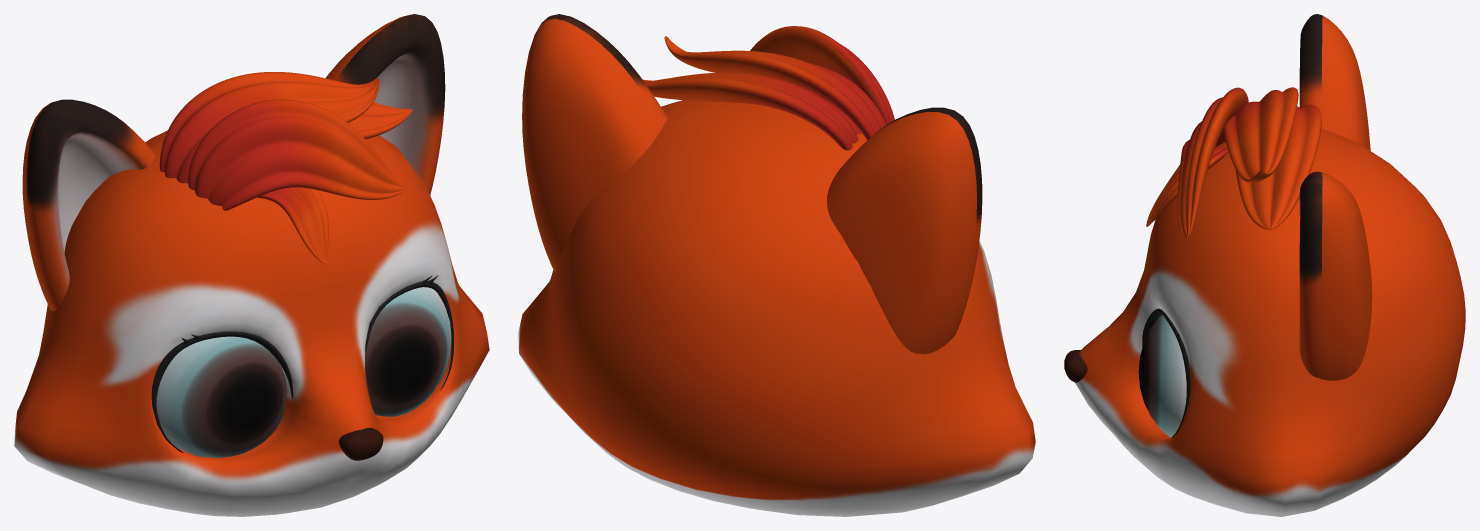
3 renders of one model, left to right at view 1: azimuth 30°, elevation 25°; view 2: azimuth 150°, elevation 25°; view 3: azimuth 270°, elevation 25°, orthographic. The views are drawn at different scales.
Parts seen in each view (by area): view 1: Cube, Cube.001, NurbsPath.002; view 2: Cube, NurbsPath.002; view 3: Cube, Cube.001, NurbsPath.002.
Part boxes in pixels (x1,y1,x2,y2): Cube: (14,14,489,516); Cube.001: (156,287,451,457); NurbsPath.002: (188,99,405,210); Cube: (518,14,1035,516); NurbsPath.002: (750,26,894,124); Cube: (1064,14,1465,516); Cube.001: (1138,315,1186,437); NurbsPath.002: (1177,87,1248,238).
Size of the model in its own units: 3.84 by 3.15 by 3.04.
Materials: 1 (1 with a texture image).
